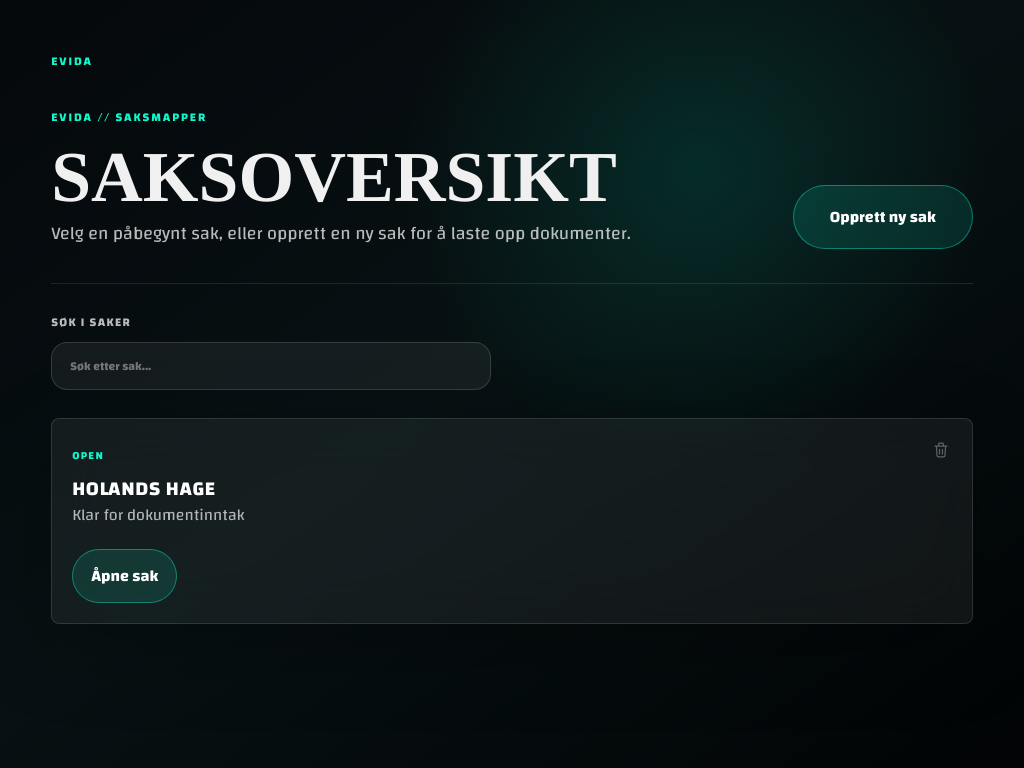
StartupGateway case cards › cancels without moving the case
Expected: the heading "Holands Hage" is shown, top-left (72, 471), bottom-right (216, 508)
What coordinates should you click on to do the following:
click the button named "Flytt Holands Hage til papirkurv"
I would click on:
 (941, 450)
Its box is top-left (924, 433), bottom-right (958, 467).
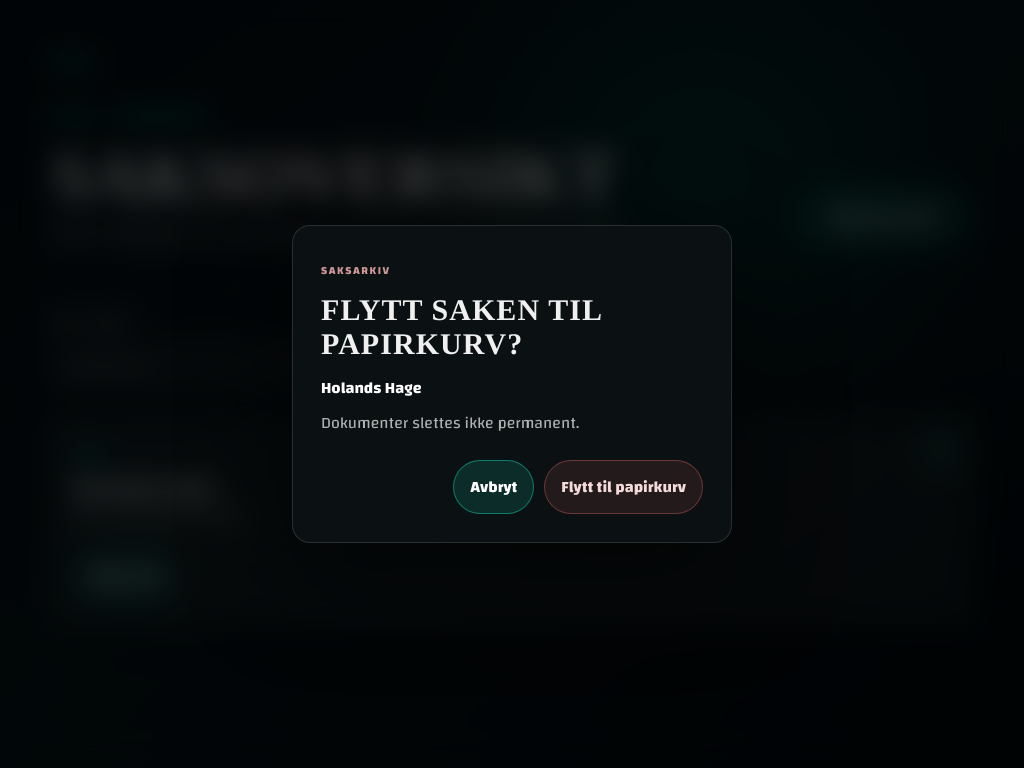
What coordinates should you click on to do the following:
click the button "Avbryt"
I would click on:
 (494, 487)
Its box is top-left (453, 460), bottom-right (534, 514).
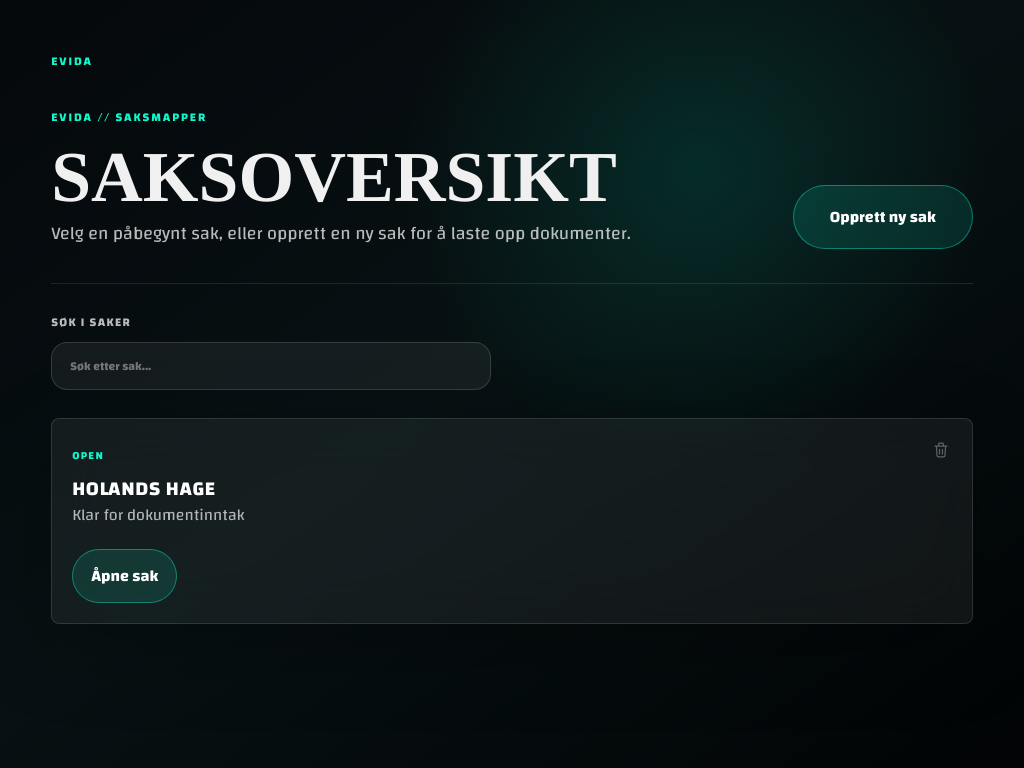
Expected: the heading "Holands Hage" is shown, top-left (72, 471), bottom-right (216, 508)
Now the dialog is gone
